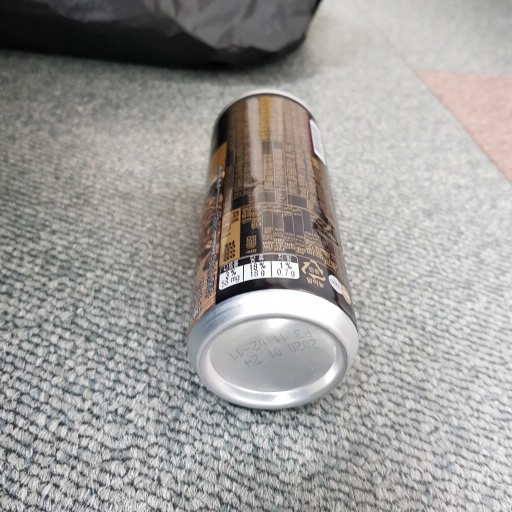Metal_0: (188, 90, 359, 412)
